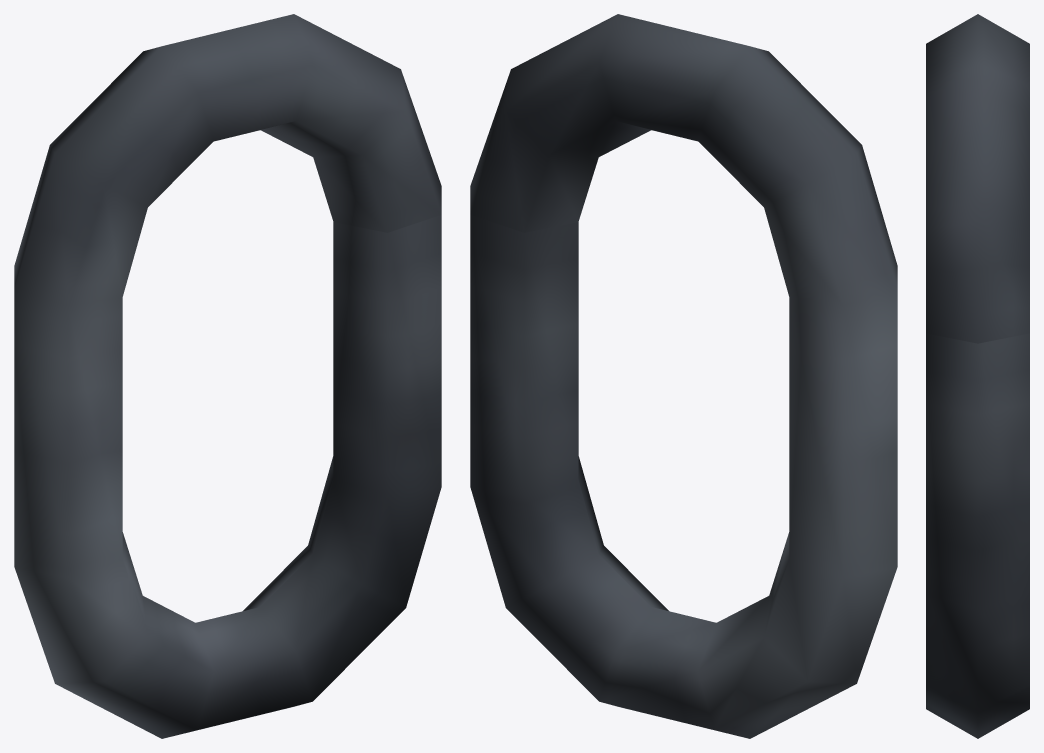
The model's file is ENV_ChainLink.fbx.
The picture shows the model from 3 angles, left to right: view 1: azimuth 30°, elevation 25°; view 2: azimuth 150°, elevation 25°; view 3: azimuth 270°, elevation 25°; orthographic projection. The views are drawn at different scales.
Visible parts, largest first — view 1: ENV_ChainLink; view 2: ENV_ChainLink; view 3: ENV_ChainLink.
Boxes of the visible parts, <box> form: ENV_ChainLink: <box>14,14,441,738</box>; ENV_ChainLink: <box>470,14,897,738</box>; ENV_ChainLink: <box>926,14,1029,738</box>.
Size of the model in its own units: 0.1339 by 0.2074 by 0.0294.
